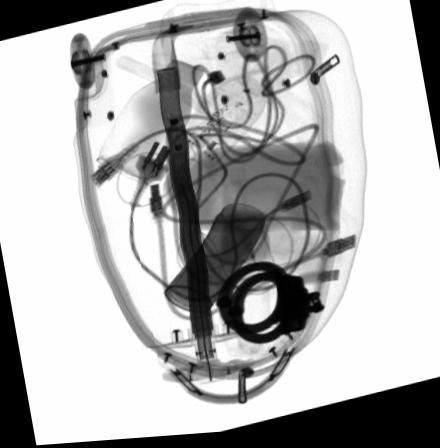HandCuffs: (214, 263, 323, 346)
